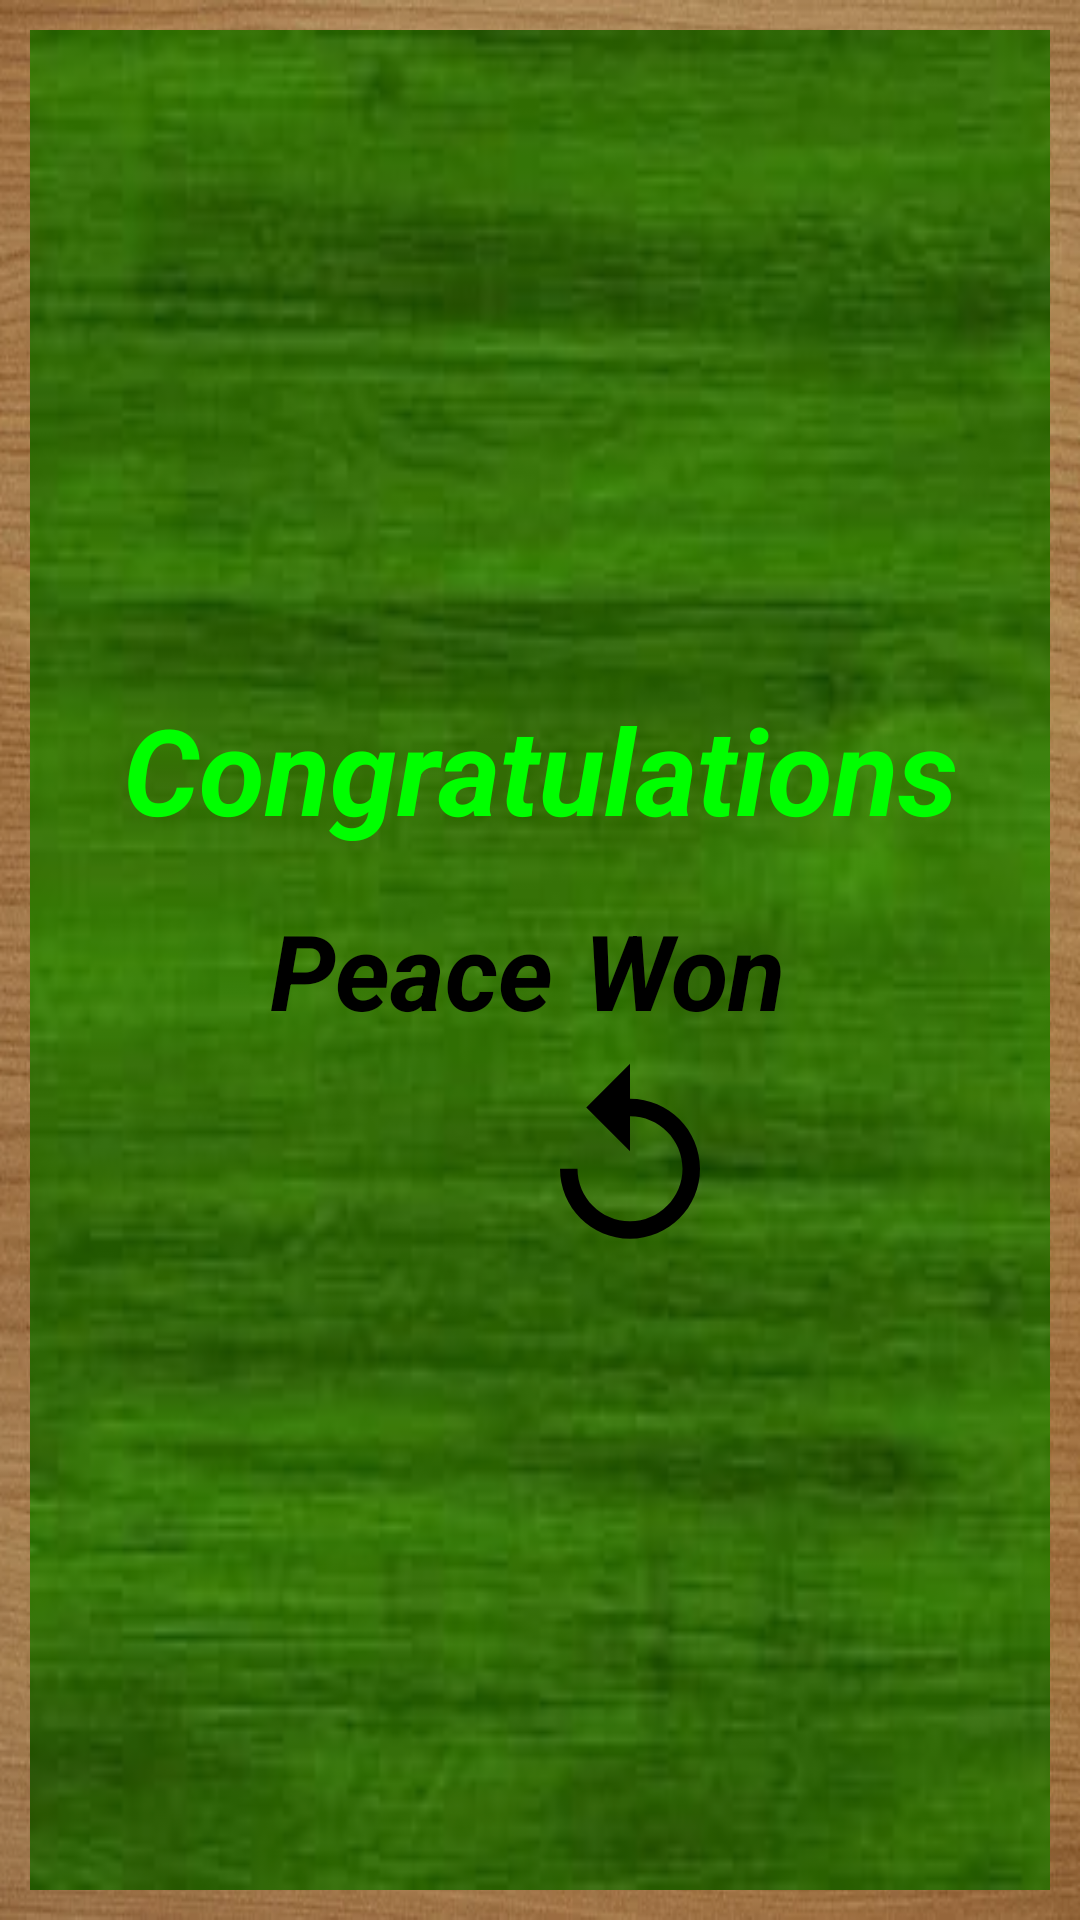

Icons on this 1080px×1920px Android screen, each with its box as (x1=x1, y1=y1, x2=x2, y2=y2):
Re-Play: (x1=525, y1=1055, x2=735, y2=1239)
